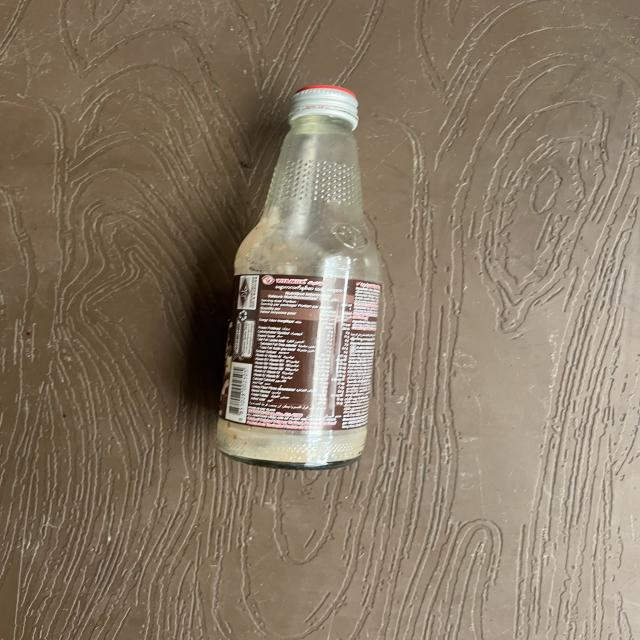Glass_Bottle: (202, 71, 408, 628)
